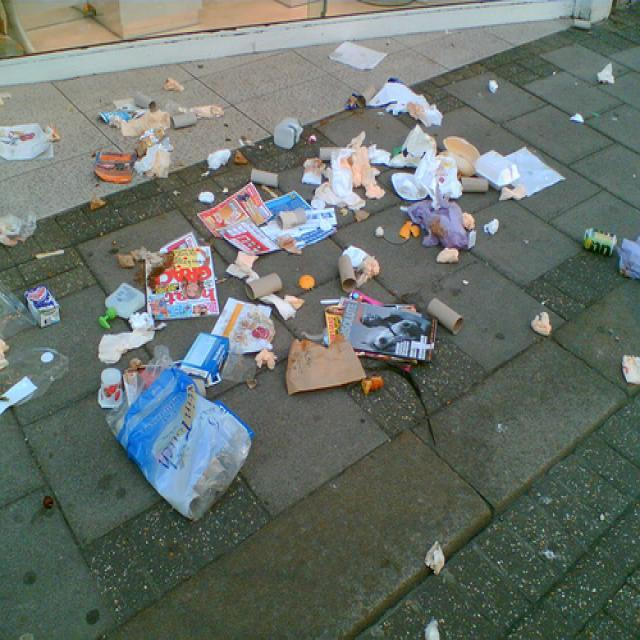plastic: (264, 128, 574, 246), (76, 351, 267, 525), (275, 259, 444, 401), (70, 65, 225, 214), (95, 233, 230, 339), (344, 67, 446, 122)
